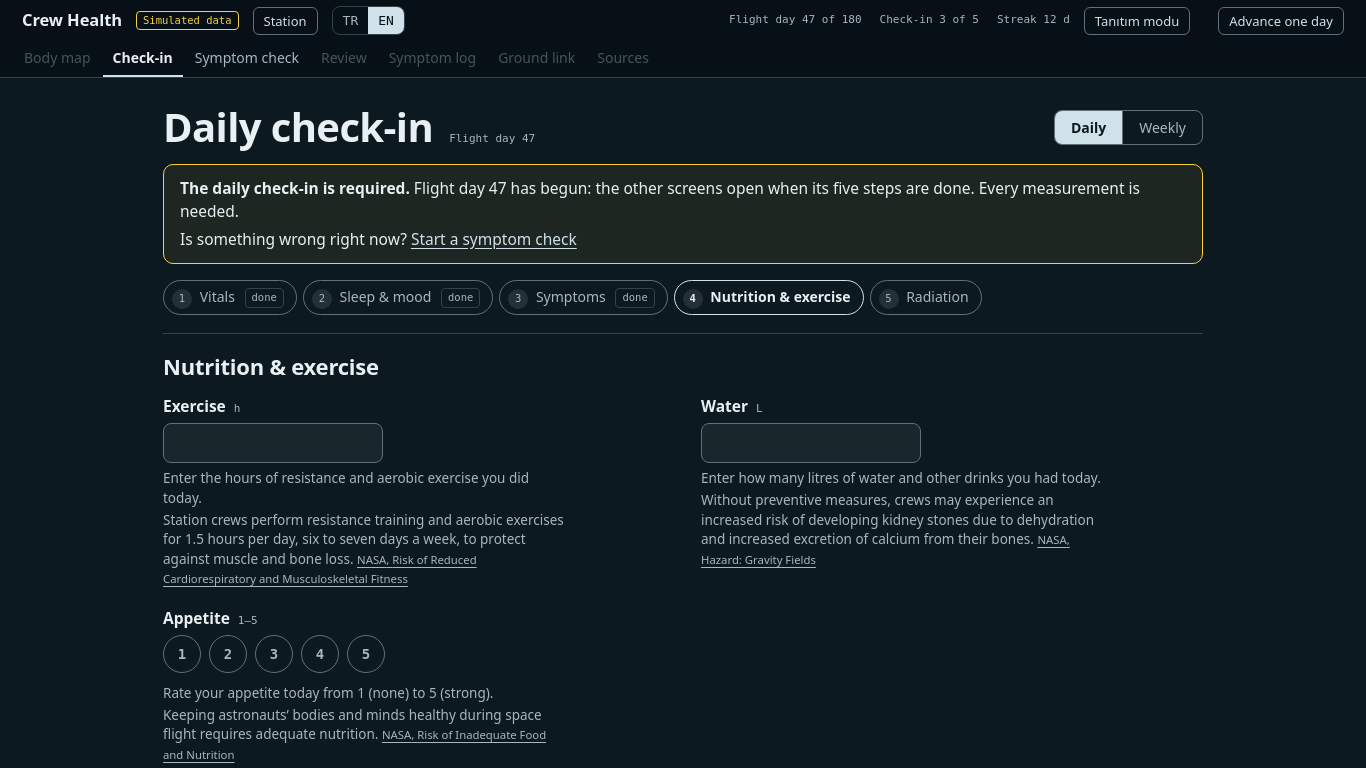
Test: Advance one day stays available while locked, and the missed day is reported
Click the button "Advance one day": (1281, 20) [1218,6,1344,34]
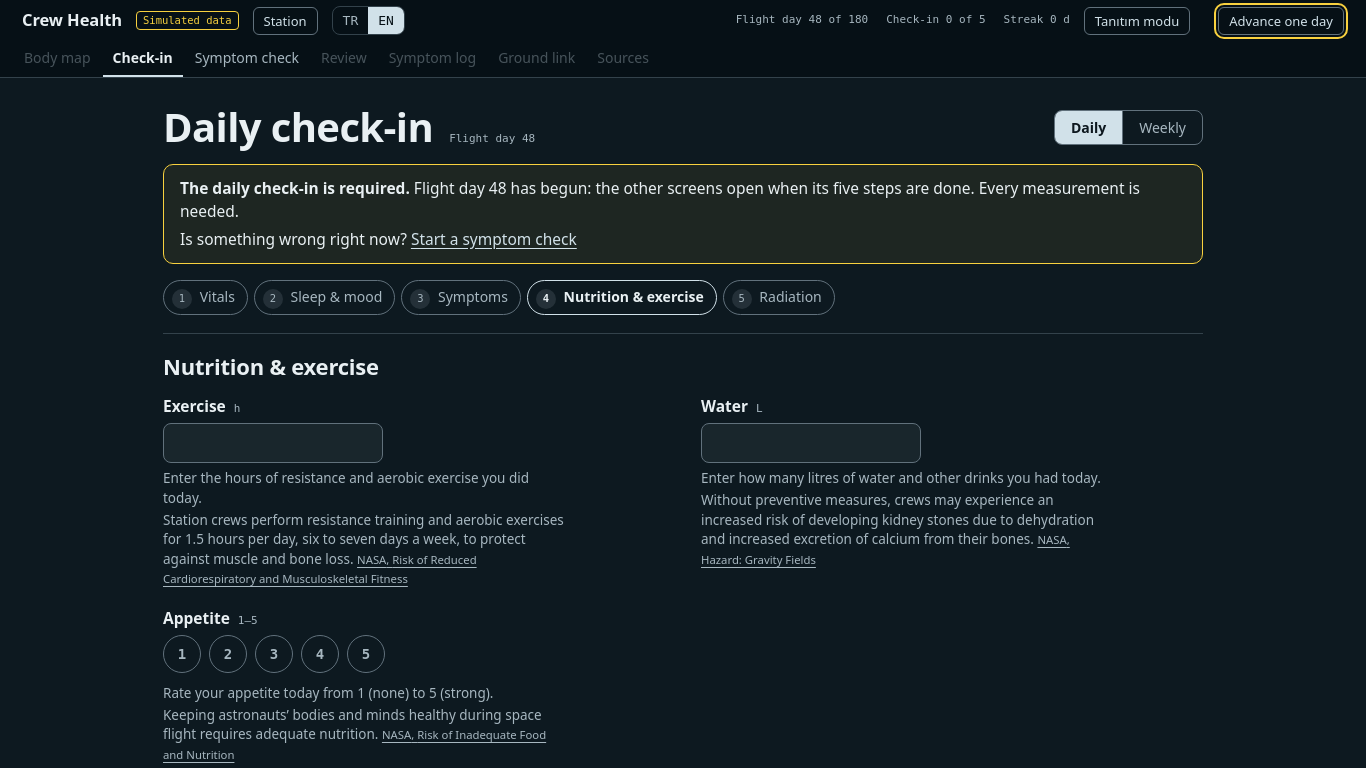
Check: the text "Flight day 48 of 180" is shown, box [736,12,868,29]
